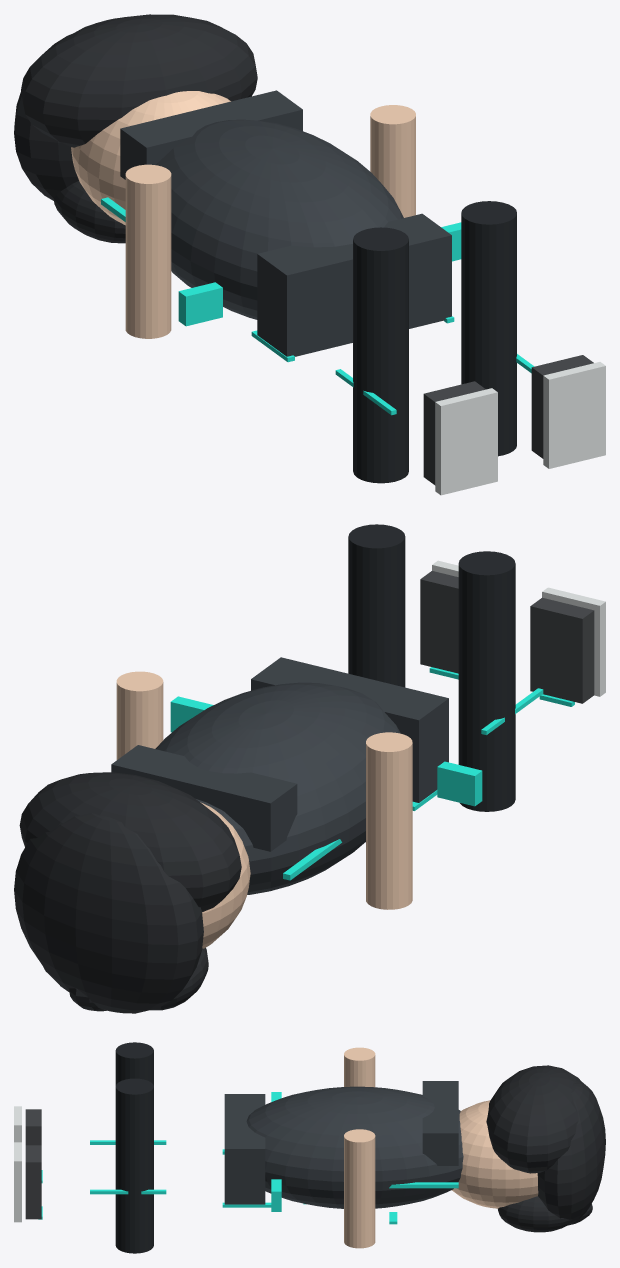
The model's file is rex_lowfi_blockout_blender.glb.
The picture shows the model from 3 angles, top to bottom: view 1: azimuth 30°, elevation 25°; view 2: azimuth 150°, elevation 25°; view 3: azimuth 270°, elevation 25°; orthographic projection. The views are drawn at different scales.
Visible parts, largest first — view 1: TorsoHoodie, HairBack, Shorts, Legging_L, Legging_R, UpperArm_L, Sole_L, Sole_R, Hood, Head, UpperArm_R, HairTop (+4 smaller); view 2: HairTop, TorsoHoodie, HairBack, Legging_L, Legging_R, UpperArm_L, Hood, Shorts, Shoe_L, Shoe_R, UpperArm_R, Head (+4 smaller); view 3: TorsoHoodie, HairBack, Legging_R, HairTop, Head, Shorts, UpperArm_R, Hood, HairBang_R, Legging_L, Shoe_R, UpperArm_L (+5 smaller).
Boxes of the visible parts, box(x1,y1,x2,y2) form: TorsoHoodie: box(156, 119, 403, 319); HairBack: box(21, 14, 257, 147); Shorts: box(257, 213, 451, 356); Legging_L: box(353, 227, 408, 483); Legging_R: box(461, 201, 516, 456); UpperArm_L: box(125, 164, 171, 338); Sole_L: box(435, 388, 497, 495); Sole_R: box(543, 362, 605, 468); Hood: box(120, 90, 302, 179); Head: box(71, 91, 230, 225); UpperArm_R: box(370, 105, 415, 217); HairTop: box(14, 17, 120, 200); HairTop: box(14, 813, 203, 1013); TorsoHoodie: box(155, 682, 400, 894); HairBack: box(19, 772, 241, 912); Legging_L: box(458, 551, 515, 811); Legging_R: box(348, 524, 405, 687); UpperArm_L: box(366, 732, 412, 909); Hood: box(111, 745, 297, 851); Shorts: box(251, 657, 448, 802); Shoe_L: box(530, 597, 594, 703); Shoe_R: box(420, 571, 458, 673); UpperArm_R: box(116, 671, 163, 759); Head: box(200, 802, 250, 948); TorsoHoodie: box(246, 1086, 463, 1208); HairBack: box(486, 1065, 581, 1173); Legging_R: box(115, 1078, 153, 1253); HairTop: box(537, 1080, 605, 1223); Head: box(452, 1100, 538, 1208); Shorts: box(224, 1094, 265, 1204); UpperArm_R: box(344, 1129, 375, 1248); Hood: box(422, 1081, 458, 1165); HairBang_R: box(498, 1196, 572, 1232); Legging_L: box(115, 1042, 153, 1085); Shoe_R: box(25, 1145, 41, 1219); UpperArm_L: box(344, 1047, 375, 1087).
Size of the model in its own units: 1.05 by 0.78 by 2.63.
